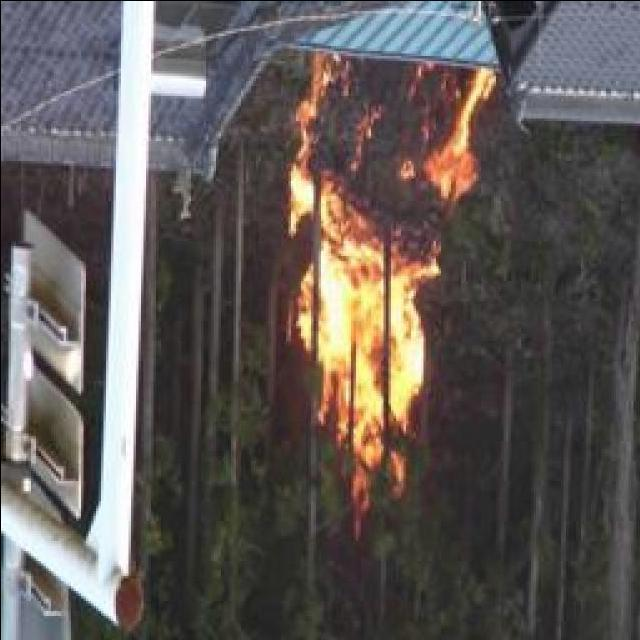Fire: (282, 54, 484, 509)
